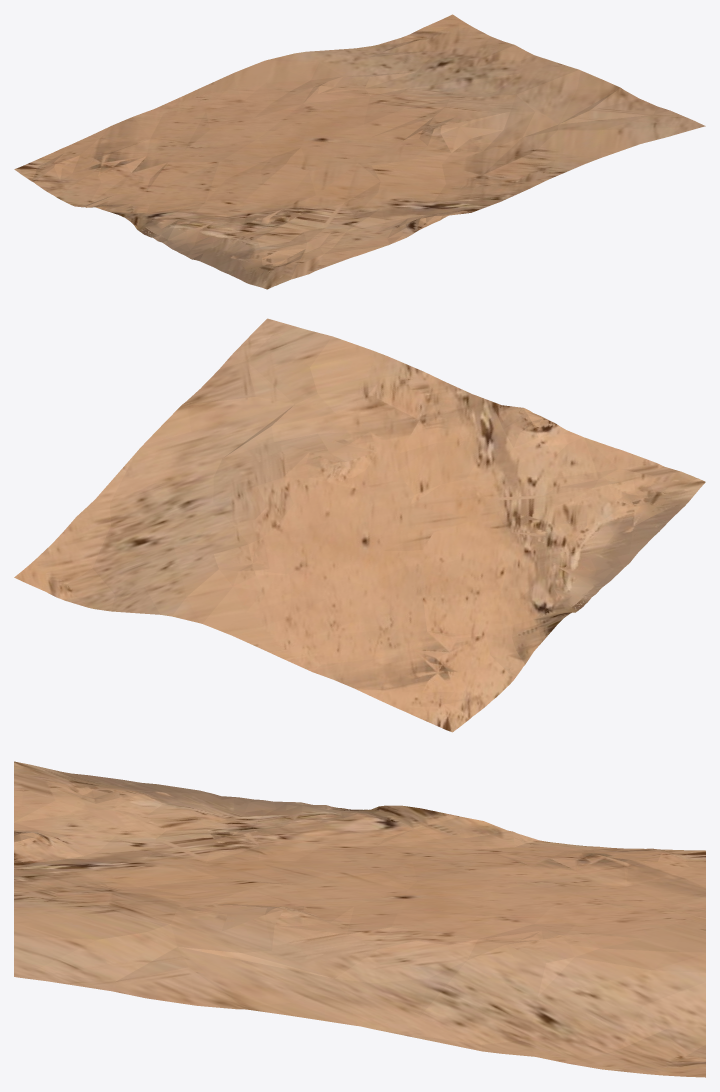
3 renders of one model, top to bottom at view 1: azimuth 30°, elevation 25°; view 2: azimuth 150°, elevation 25°; view 3: azimuth 270°, elevation 25°, orthographic. The views are drawn at different scales.
Size of the model in its own units: 2.09 by 0.5531 by 2.09.
2 materials, 2 textured.
